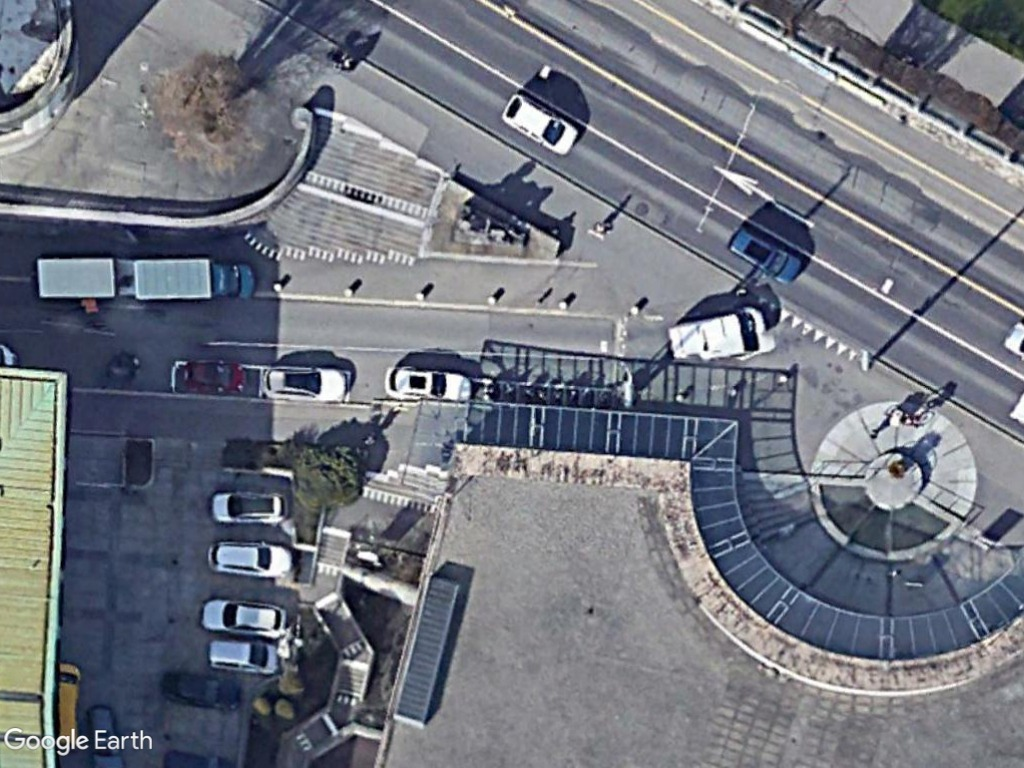car: (500, 93, 582, 158), (722, 223, 804, 288), (380, 364, 476, 407), (257, 364, 352, 405), (204, 539, 297, 580), (198, 598, 289, 637), (209, 487, 289, 525), (207, 638, 281, 678)
truck: (128, 255, 258, 306)
van: (666, 309, 771, 368)
